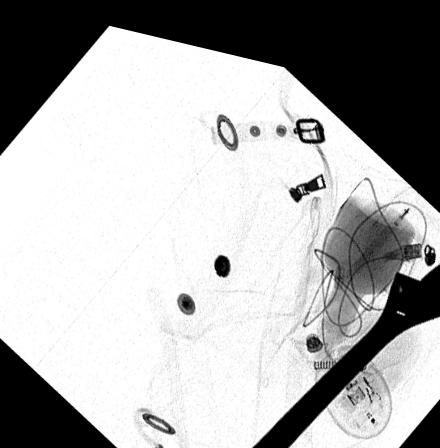Wrench: (239, 239, 440, 448)
